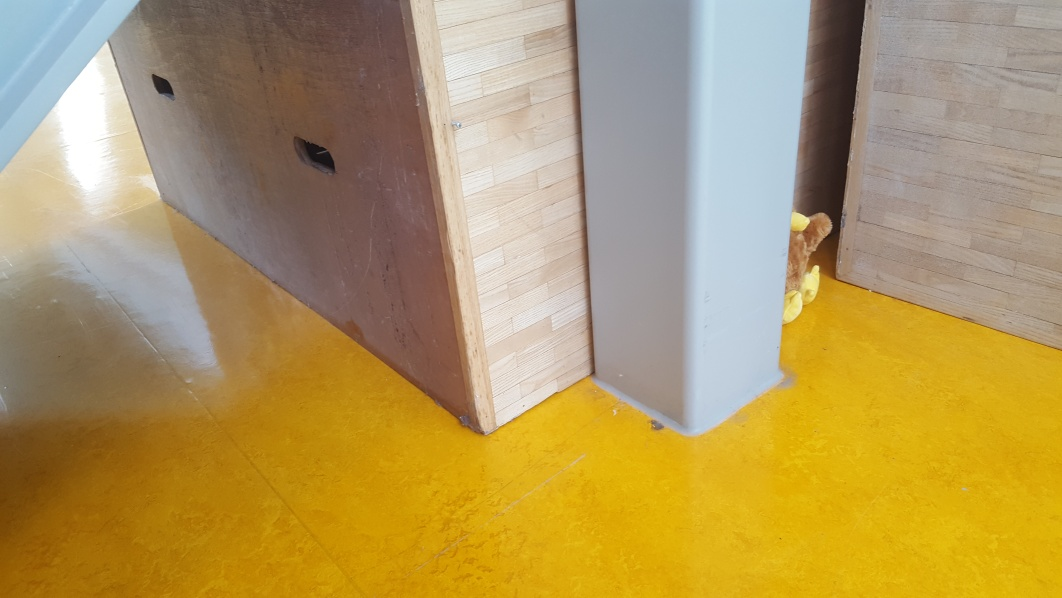chicken: (781, 210, 832, 329)
